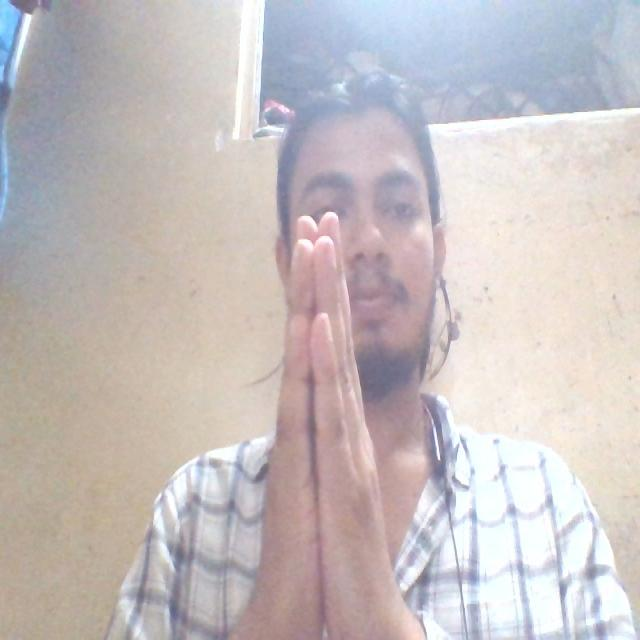Thank You: (218, 206, 443, 640)
